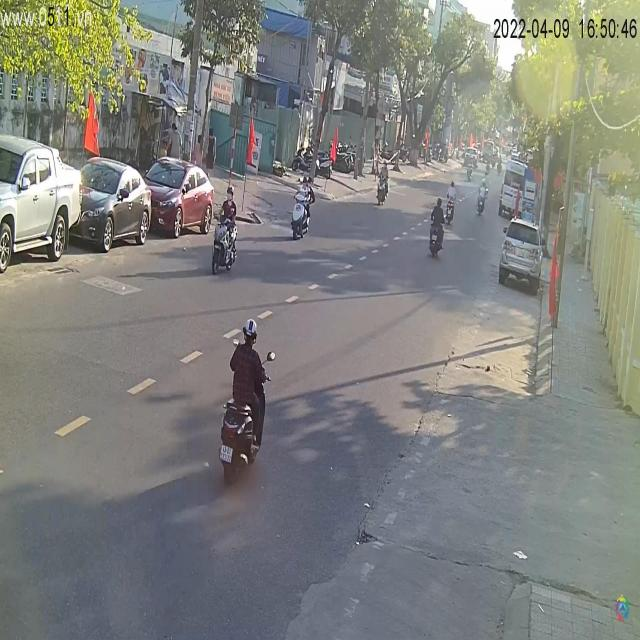bus: (499, 160, 538, 220)
car: (1, 134, 83, 278), (74, 158, 155, 253), (141, 156, 217, 240), (500, 216, 543, 295)
motorcycle: (220, 399, 257, 472), (208, 212, 240, 273), (292, 184, 313, 239), (428, 212, 444, 261), (375, 174, 391, 206), (475, 186, 487, 218)
